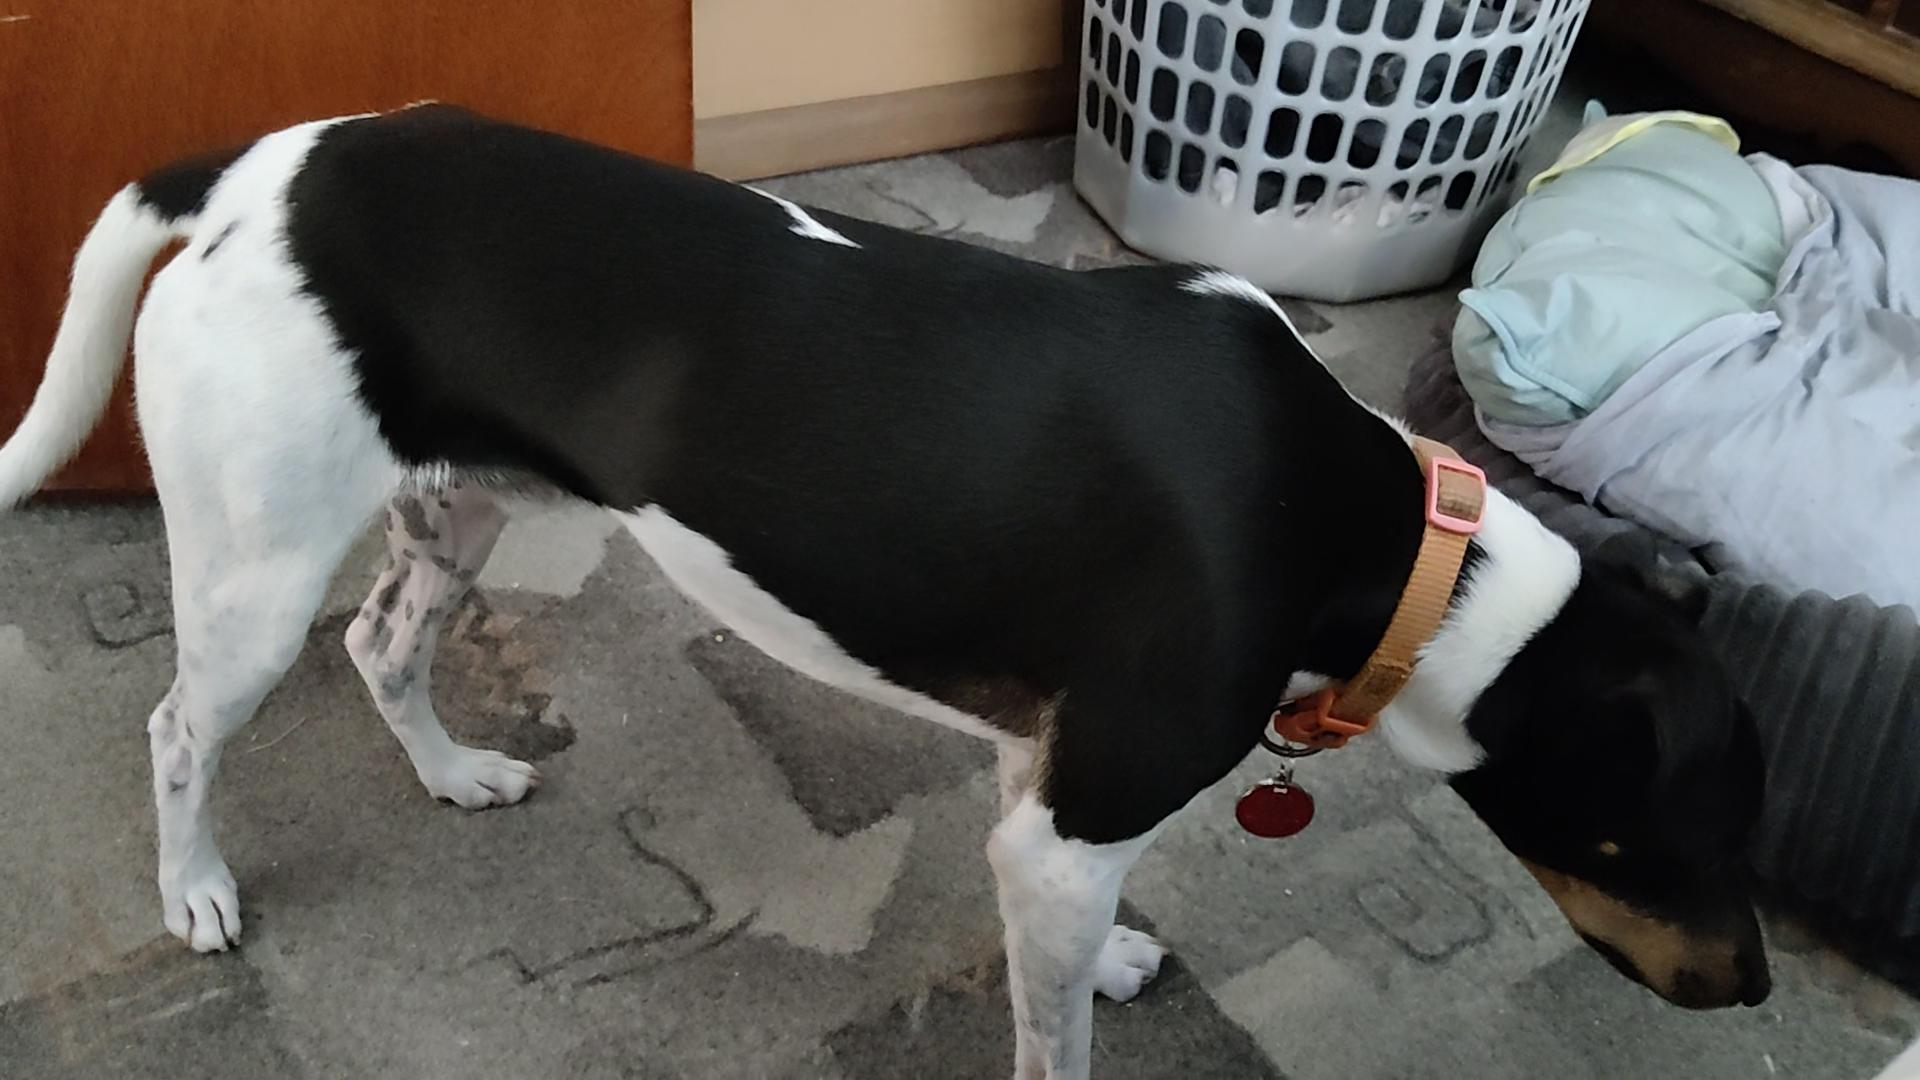Dog: (0, 94, 1785, 1079)
